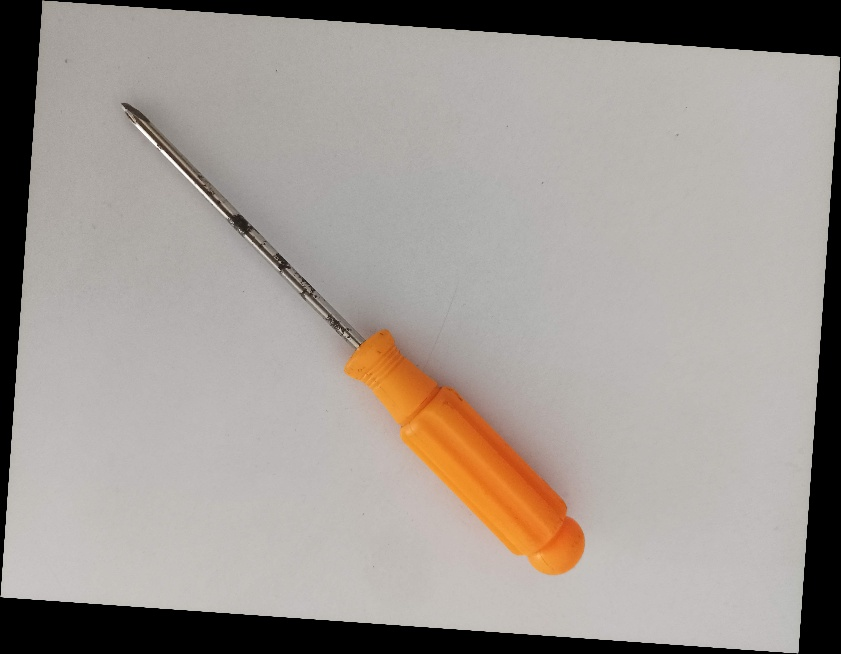screwdriver: (116, 96, 588, 579)
